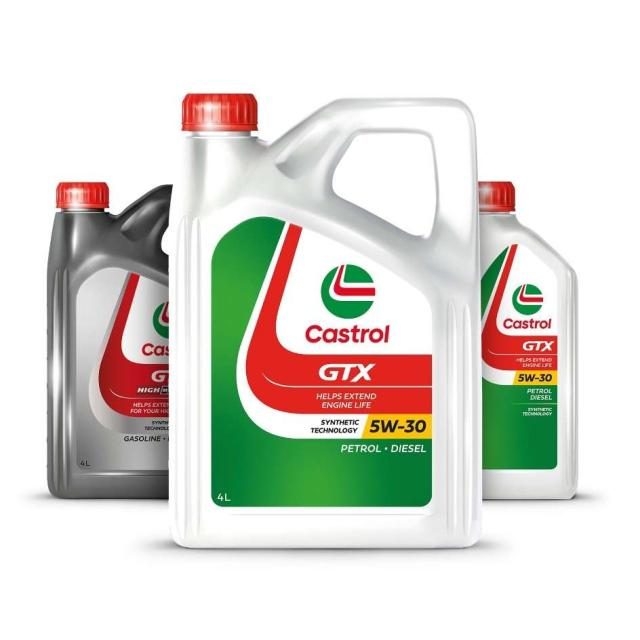motor_oil: (177, 86, 483, 552), (47, 184, 168, 500), (487, 179, 582, 504)
